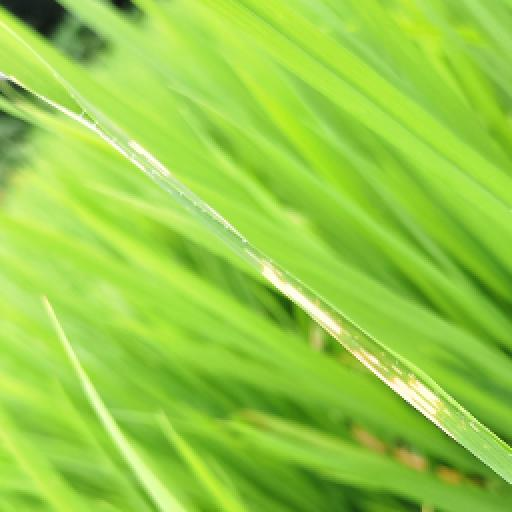Bacterial Leaf Blight: (357, 328, 459, 432), (238, 256, 352, 348), (80, 116, 188, 194), (196, 184, 258, 248)
